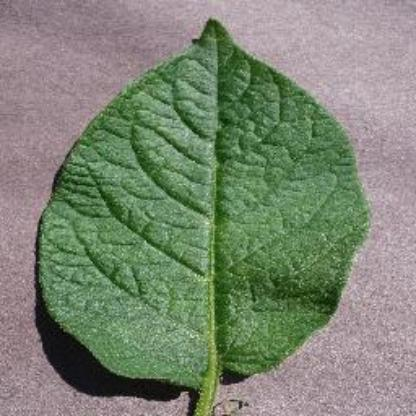Healthy-plant: (34, 14, 388, 393)
